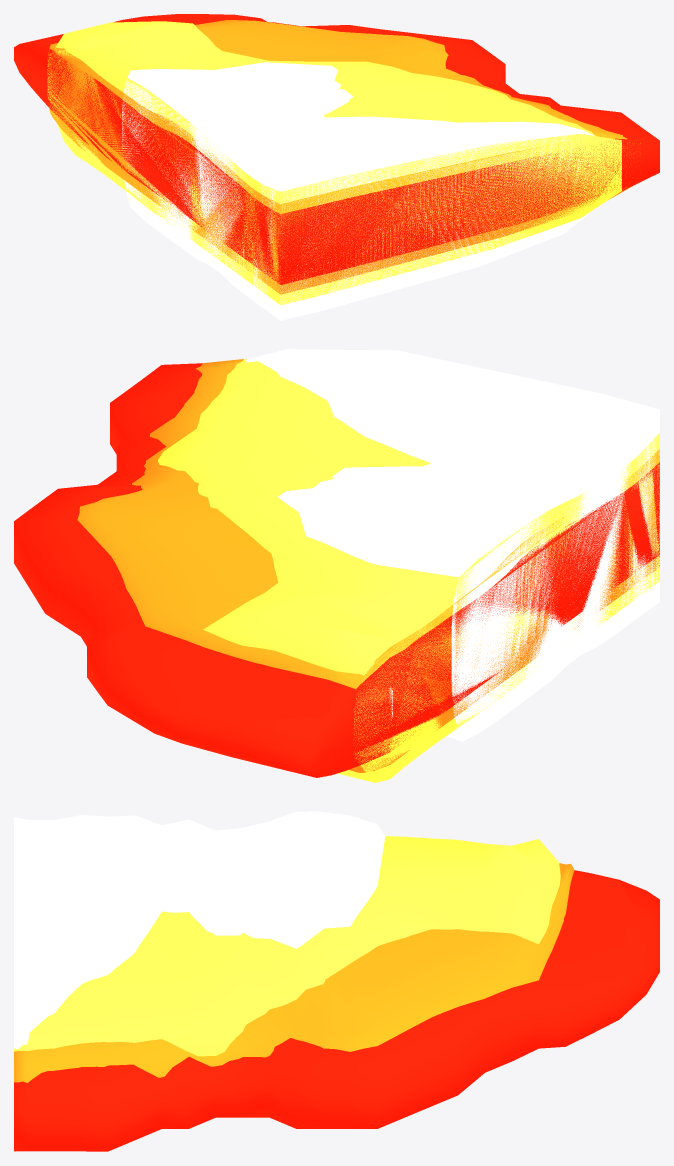
Rendered from newshk-17.glb.
3 views of the same model, one above another, from view 1: azimuth 30°, elevation 25°; view 2: azimuth 150°, elevation 25°; view 3: azimuth 270°, elevation 25° (orthographic). The views are drawn at different scales.
Parts seen in each view (by area): view 1: newshk-17; view 2: newshk-17; view 3: newshk-17.
Boxes of the visible parts, bbox=[...] form: newshk-17: bbox=[14, 14, 659, 320]; newshk-17: bbox=[14, 349, 659, 782]; newshk-17: bbox=[14, 811, 659, 1151].
Size of the model in its own units: 1.64 by 0.6261 by 2.
